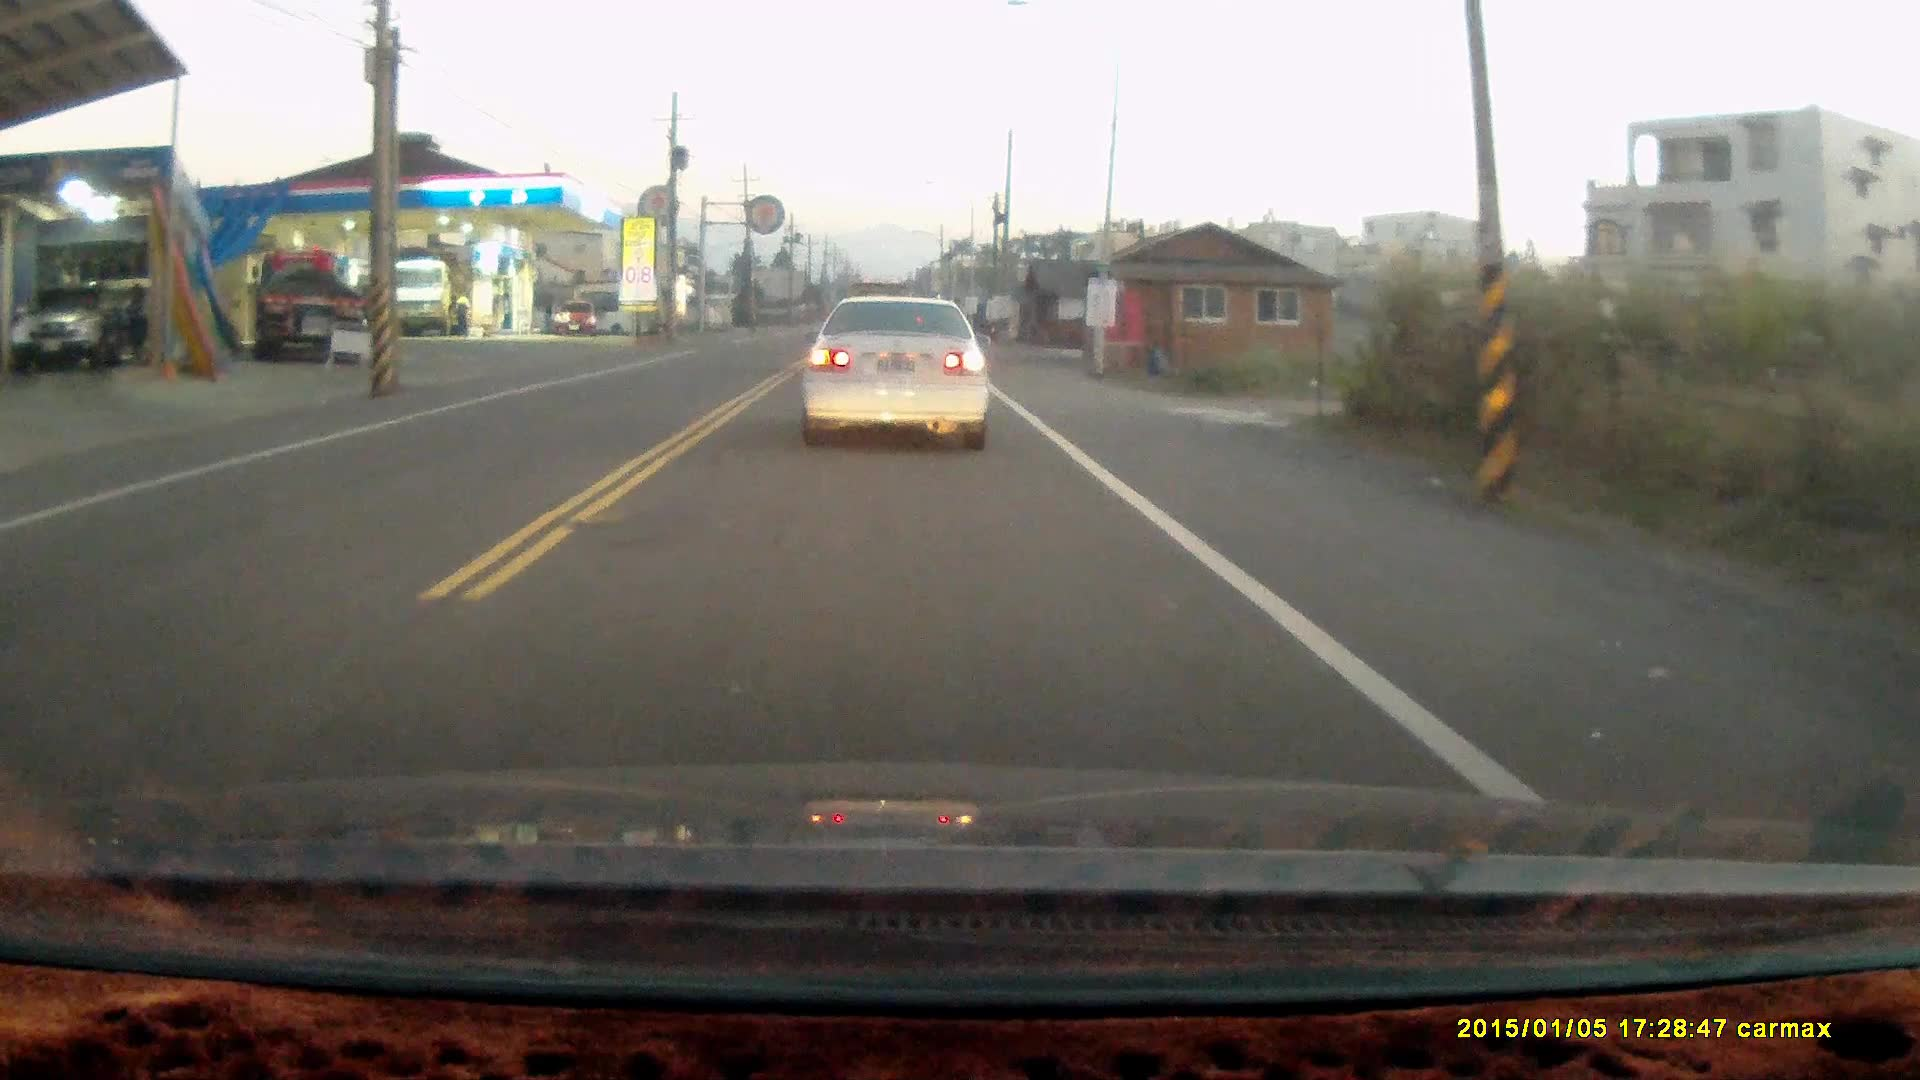pedestrian: (452, 287, 472, 333)
vehicle: (795, 286, 995, 451), (249, 244, 364, 356), (386, 254, 465, 338), (555, 301, 598, 338)
